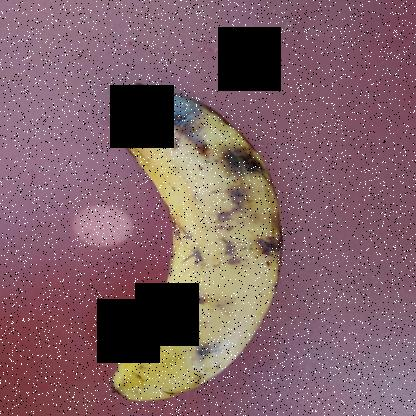overripe: (107, 163, 292, 415)
rotten: (88, 72, 274, 226)
